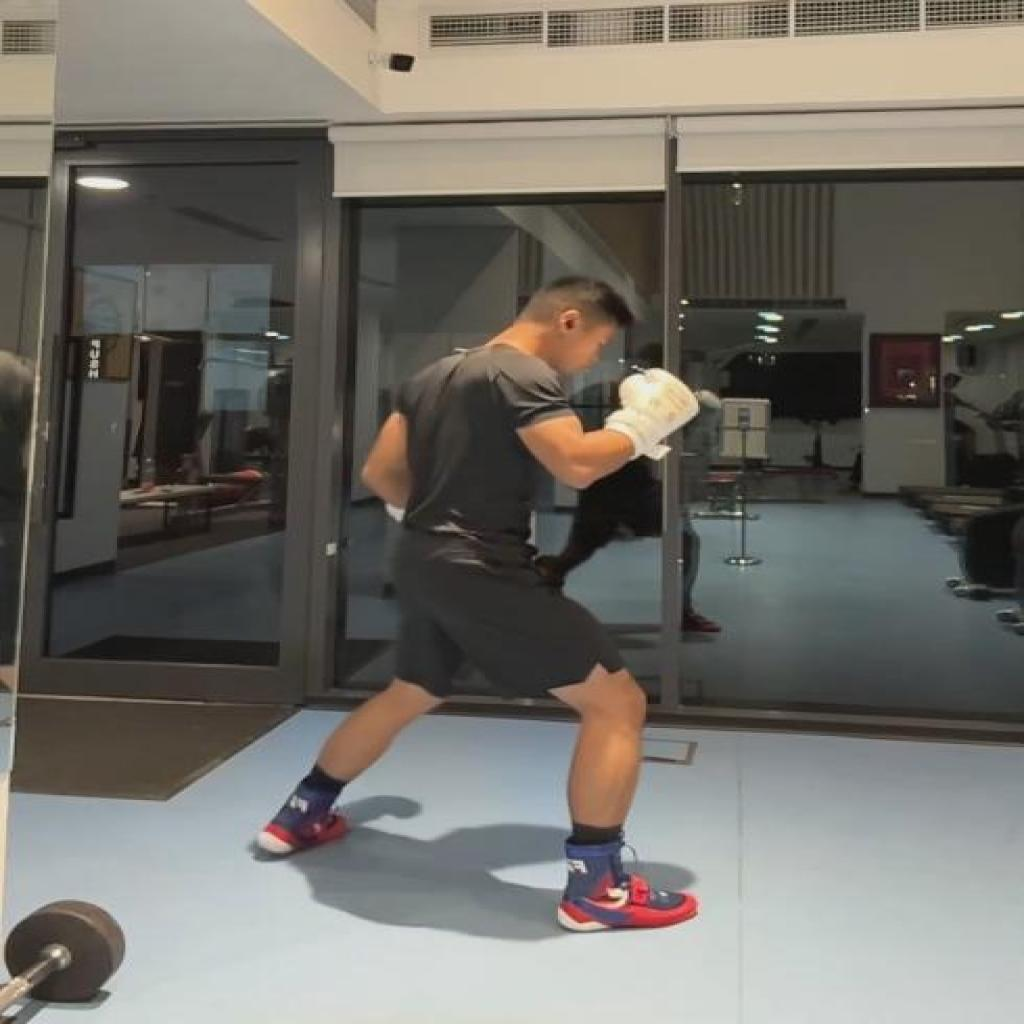no punch: (253, 270, 706, 936)
